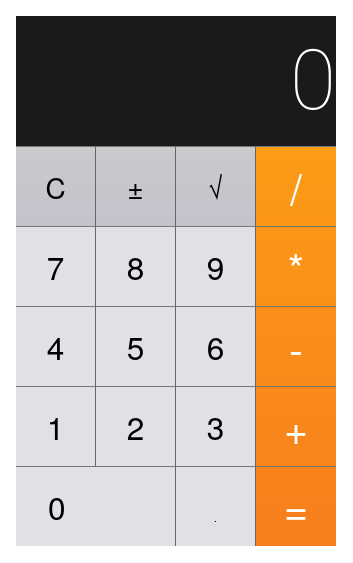
Test: Calculator Tests › should display 2 when "6 / 3 = " is clicked
Click the button with class "key-6". click: {"x": 216, "y": 346}
box: [176,306,256,386]
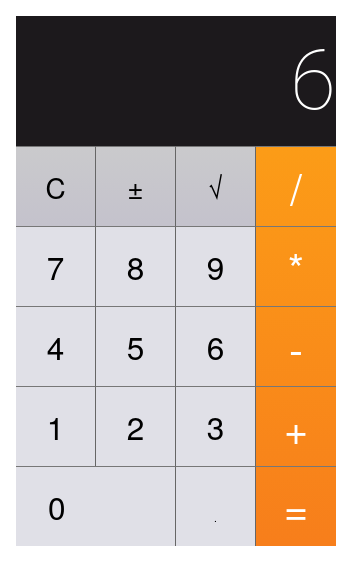
Click the button with class "key-divide". click: {"x": 296, "y": 186}
box: [256,146,336,226]
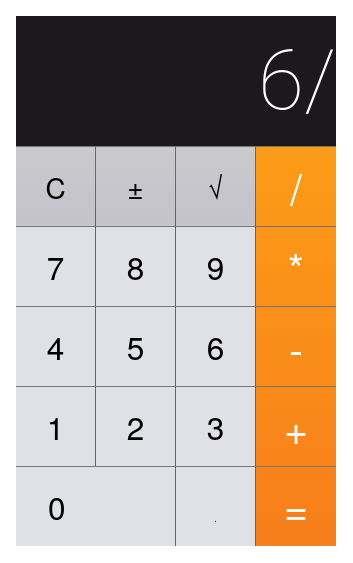
Click the button with class "key-3". click: {"x": 216, "y": 426}
box: [176,386,256,466]
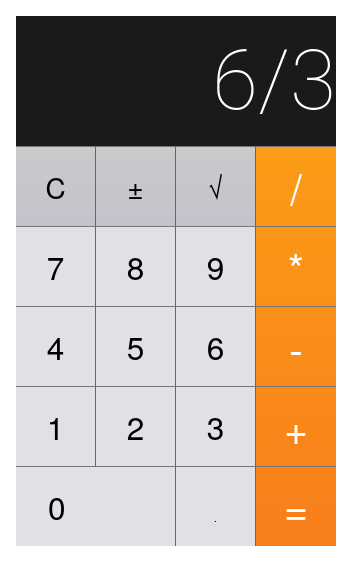
Click the button with class "key-equals". click: {"x": 296, "y": 506}
box: [256,466,336,546]
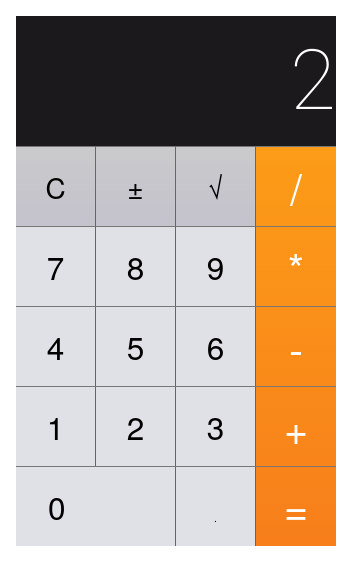
Expected: the text with class "calculator-display" reads "2", [16,16,336,146]
